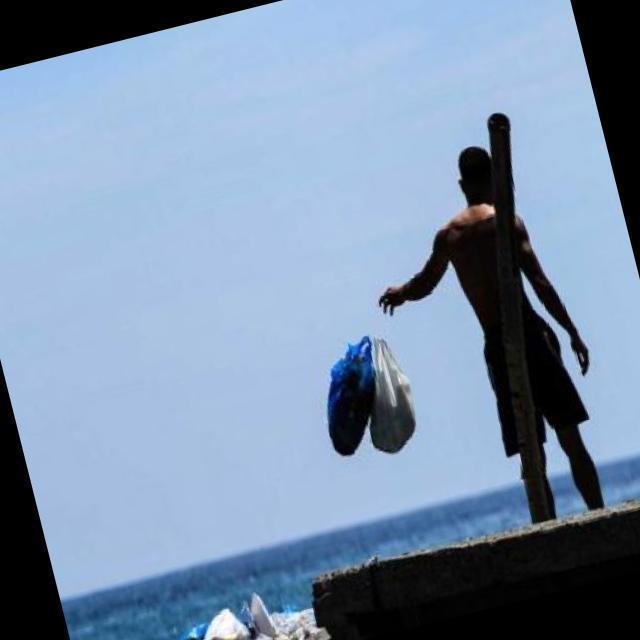Plastic_Bag: (305, 322, 428, 476)
